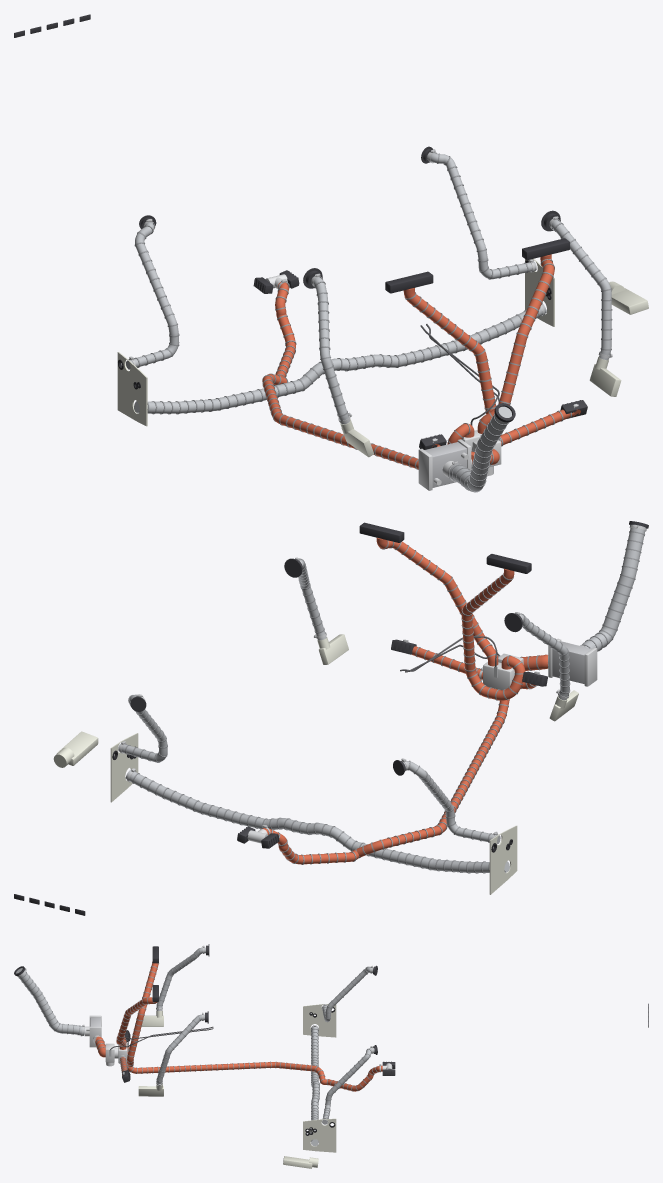
File: da40-air.glb
3 views of the same model, one above another, from view 1: azimuth 30°, elevation 25°; view 2: azimuth 150°, elevation 25°; view 3: azimuth 270°, elevation 25° (orthographic). The views are drawn at different scales.
Visible parts, largest first — view 1: Passenger air crossover duct, Passenger floor heat duct, Defrost duct RH, Defrost duct LH, Fuselage side air duct LH, Fuselage side air duct RH, Heat exchanger air intake duct, Cabin heat exchanger, Pilot air duct LH, Pilot air duct RH, Stub wing inner closing rib RH, Pilot floor heat duct LH (+3 smaller); view 2: Passenger air crossover duct, Passenger floor heat duct, Defrost duct RH, Heat exchanger air intake duct, Defrost duct LH, Cabin heat exchanger, Stub wing inner closing rib RH, Fuselage side air duct RH, Stub wing inner closing rib LH, Pilot air duct RH, Fuselage side air duct LH, Passenger NACA inlet duct (LH stub wing) (+4 smaller); view 3: Passenger floor heat duct, Heat exchanger air intake duct, Stub wing inner closing rib LH, Stub wing inner closing rib RH, Passenger air crossover duct, Defrost duct RH, Fuselage side air duct LH, Pilot air duct LH, Pilot air duct RH, Defrost duct LH, Fuselage side air duct RH, Cabin heat exchanger (+1 smaller).
Part boxes in pixels (<box>): Passenger air crossover duct: <box>134,303,546,414</box>; Passenger floor heat duct: <box>262,279,418,469</box>; Defrost duct RH: <box>403,288,496,444</box>; Defrost duct LH: <box>477,254,554,433</box>; Fuselage side air duct LH: <box>427,149,536,279</box>; Fuselage side air duct RH: <box>126,219,179,369</box>; Heat exchanger air intake duct: <box>447,406,511,492</box>; Cabin heat exchanger: <box>418,439,472,490</box>; Pilot air duct LH: <box>549,216,612,360</box>; Pilot air duct RH: <box>311,273,351,424</box>; Stub wing inner closing rib RH: <box>117,352,147,426</box>; Pilot floor heat duct LH: <box>500,404,580,446</box>; Passenger air crossover duct: <box>125,768,509,873</box>; Passenger floor heat duct: <box>260,699,509,864</box>; Defrost duct RH: <box>461,568,525,700</box>; Heat exchanger air intake duct: <box>580,524,646,651</box>; Defrost duct LH: <box>376,537,498,666</box>; Cabin heat exchanger: <box>547,638,597,686</box>; Stub wing inner closing rib RH: <box>489,825,517,894</box>; Fuselage side air duct RH: <box>401,758,500,843</box>; Stub wing inner closing rib LH: <box>110,733,138,802</box>; Pilot air duct RH: <box>515,612,570,700</box>; Fuselage side air duct LH: <box>118,694,167,762</box>; Passenger NACA inlet duct (LH stub wing): <box>53,731,98,767</box>; Passenger floor heat duct: <box>127,1061,382,1091</box>; Heat exchanger air intake duct: <box>16,968,84,1036</box>; Stub wing inner closing rib LH: <box>303,1118,336,1152</box>; Stub wing inner closing rib RH: <box>303,1004,336,1037</box>; Passenger air crossover duct: <box>311,1025,319,1146</box>; Defrost duct RH: <box>123,961,158,1067</box>; Fuselage side air duct LH: <box>321,1046,374,1124</box>; Pilot air duct LH: <box>156,1012,204,1085</box>; Pilot air duct RH: <box>156,945,205,1010</box>; Defrost duct LH: <box>116,997,157,1049</box>; Fuselage side air duct RH: <box>321,965,373,1022</box>; Cabin heat exchanger: <box>84,1015,101,1047</box>.
Bounding box in the file's own units: 1.79 × 0.7711 × 3.47.
